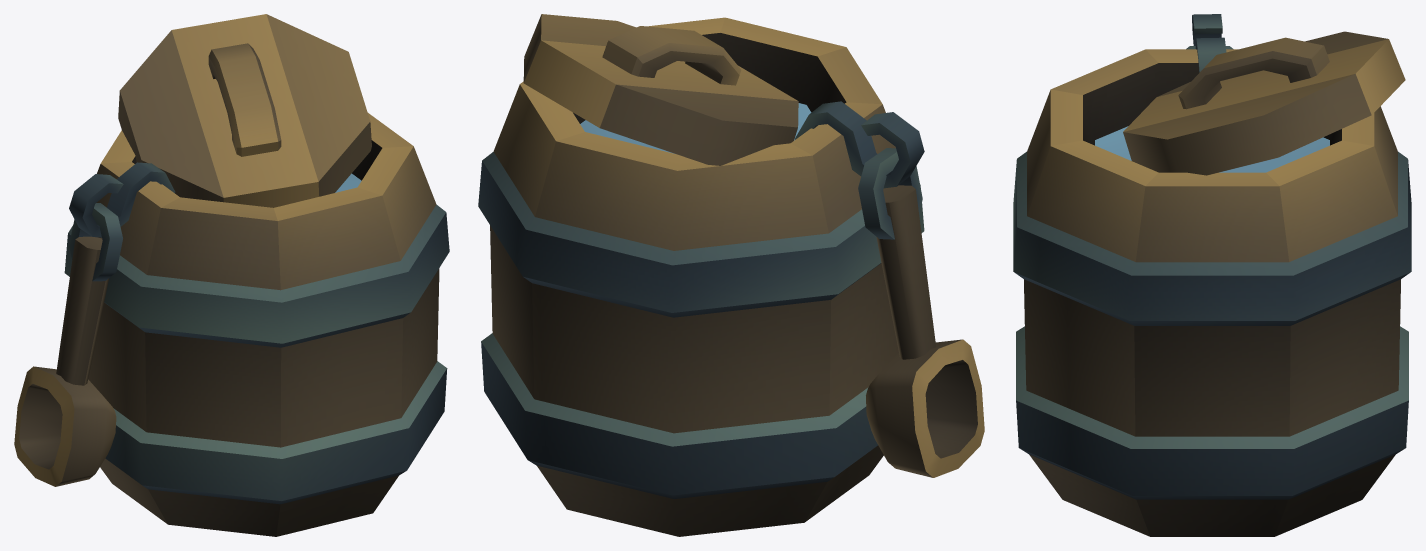
File: barrel_water_open_slightly.fbx
3 views of the same model, side by side, from view 1: azimuth 30°, elevation 25°; view 2: azimuth 150°, elevation 25°; view 3: azimuth 270°, elevation 25° (orthographic). The views are drawn at different scales.
Visible parts, largest first — view 1: barrel_water_open_slightly; view 2: barrel_water_open_slightly; view 3: barrel_water_open_slightly.
Boxes of the visible parts, x1=… form: barrel_water_open_slightly: x1=14, y1=14, x2=449, y2=536; barrel_water_open_slightly: x1=478, y1=14, x2=984, y2=536; barrel_water_open_slightly: x1=1013, y1=14, x2=1411, y2=536.
Bounding box in the file's own units: 113 × 114 × 93.15.
